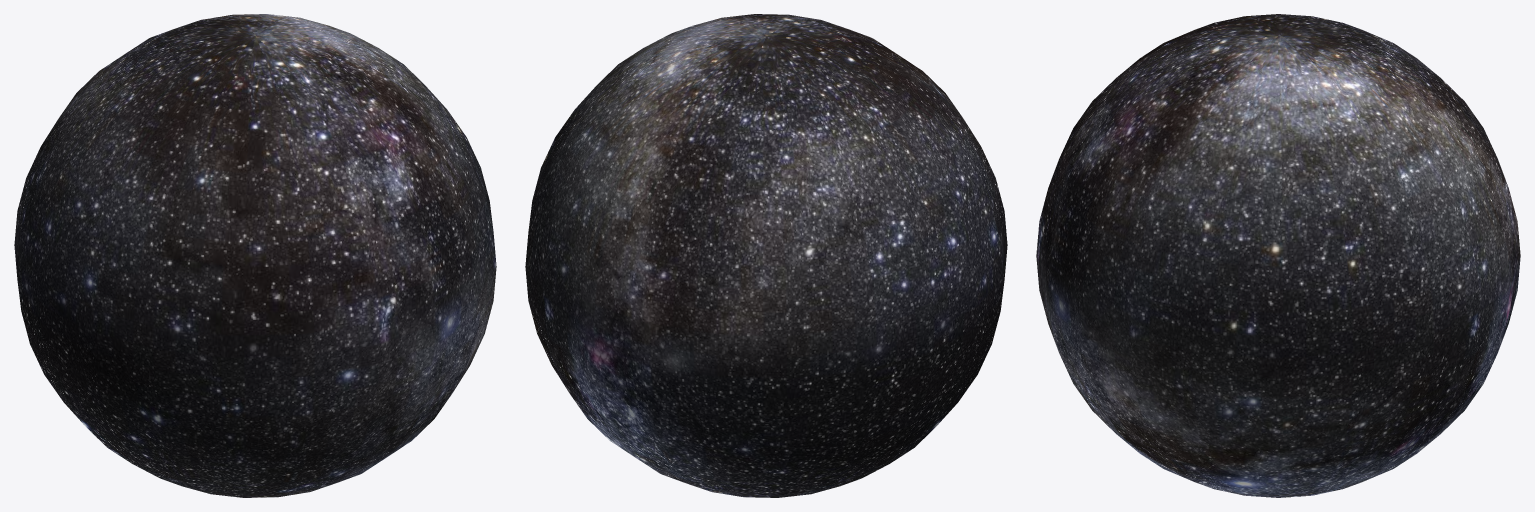
The model's file is all-models.fbx.
The picture shows the model from 3 angles, left to right: view 1: azimuth 30°, elevation 25°; view 2: azimuth 150°, elevation 25°; view 3: azimuth 270°, elevation 25°; orthographic projection.
Visible parts, largest first — view 1: space; view 2: space; view 3: space.
Boxes of the visible parts, bbox=[...] form: space: bbox=[14, 14, 496, 497]; space: bbox=[525, 14, 1007, 497]; space: bbox=[1036, 14, 1520, 497].
Bounding box in the file's own units: 200 × 200 × 200.
Materials: 4 (3 with a texture image).
